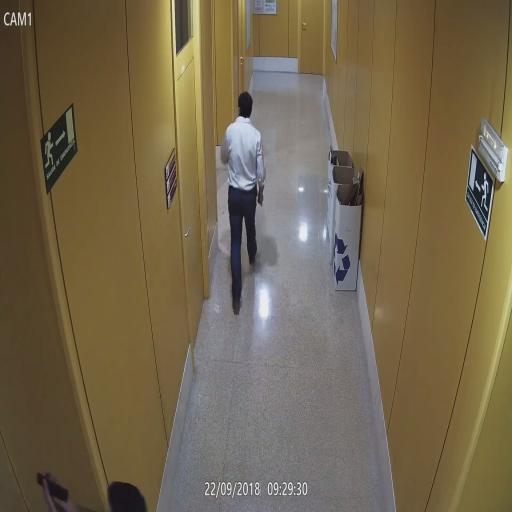Handgun: (36, 469, 71, 511), (257, 187, 265, 206)
